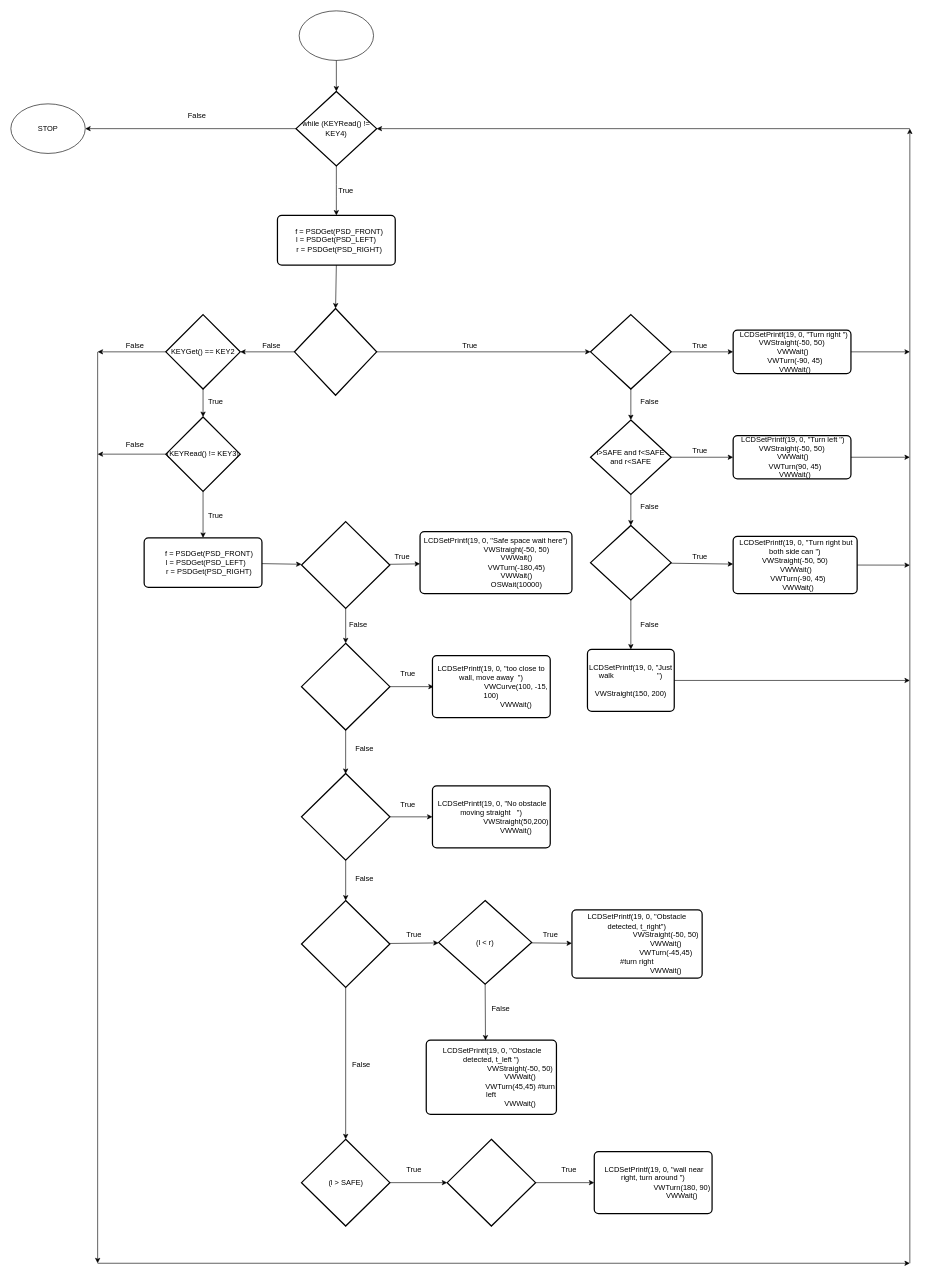
Image size: 926x1279. Some labels were removed from this diagram. The shapes that lost their labels are listed below. From the top down, each one's centre as x and y in pixels, then its label:
(336,35): START
(335,352): (KEYRead() == NOKEY)
(630,351): (l<SAFE and f<SAFE and r>SAFE)
(345,565): (l < SAFE and r < SAFE and f < SAFE)
(630,562): l>SAFE and f<SAFE and r>SAFE
(345,686): (l < 50)
(345,817): (f > SAFE and l < SAFE)
(345,944): (f < SAFE)
(491,1182): (r < SAFE)
